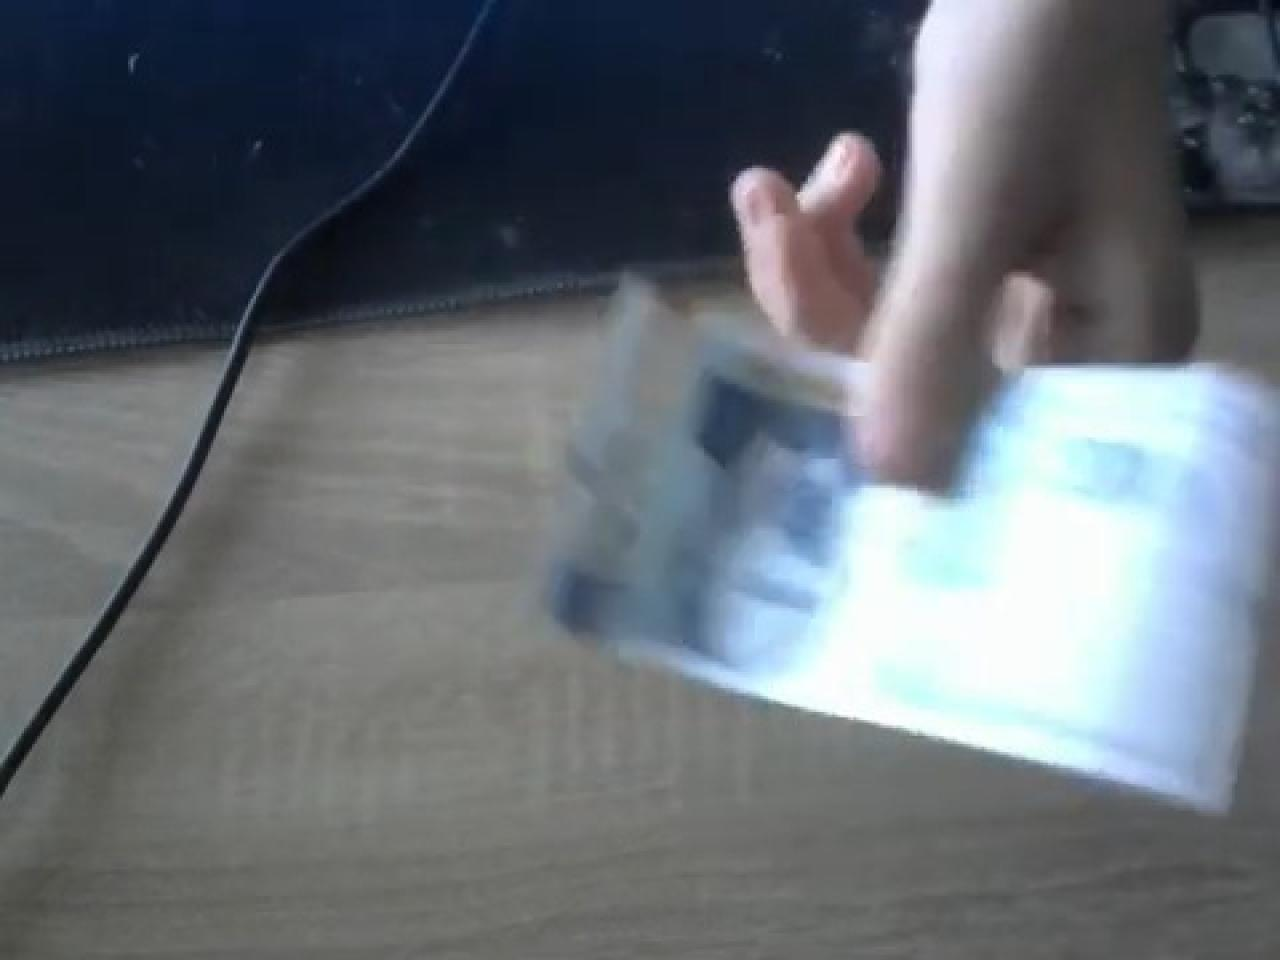20leva: (536, 261, 1280, 816)
